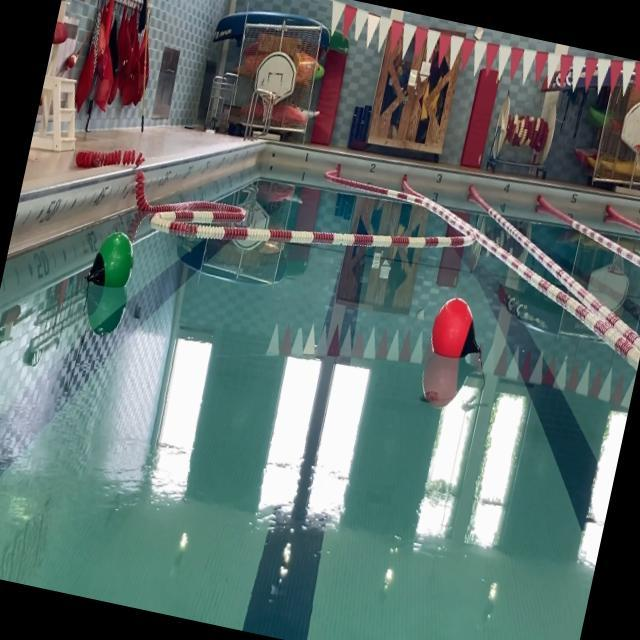buoy: (427, 289, 495, 366), (84, 224, 139, 295)
